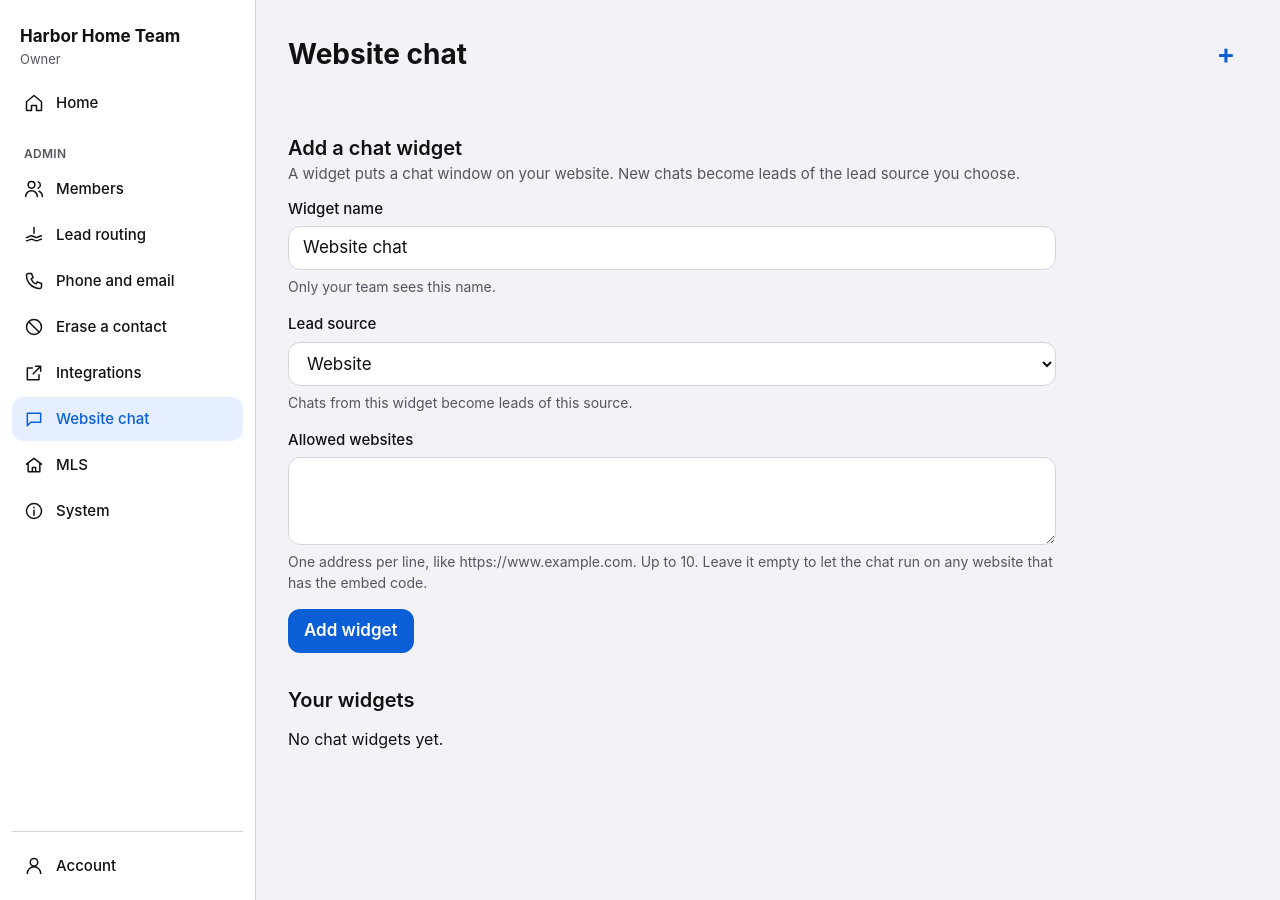
Test: Website chat page › the key is never shown again: not after "Done", and not on the widget list
The image size is (1280, 900).
Expected: the text "No chat widgets yet." is shown, [288,729,443,749]
Click the button "Add widget". click: (351, 631)
box: [288,609,414,653]
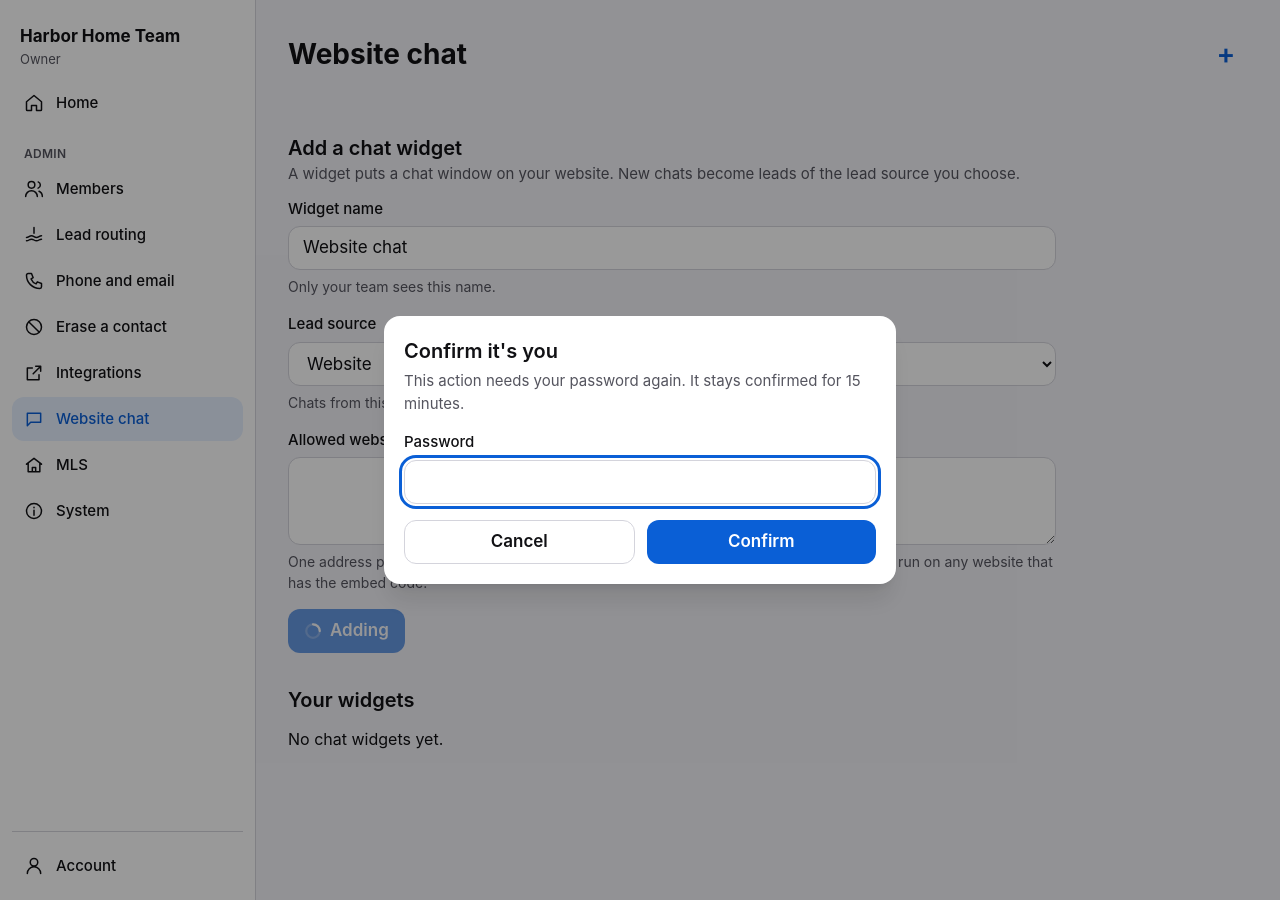
Type "correct horse battery" into the password field labelled "Password". click: (640, 482)
box: [404,460,876,504]
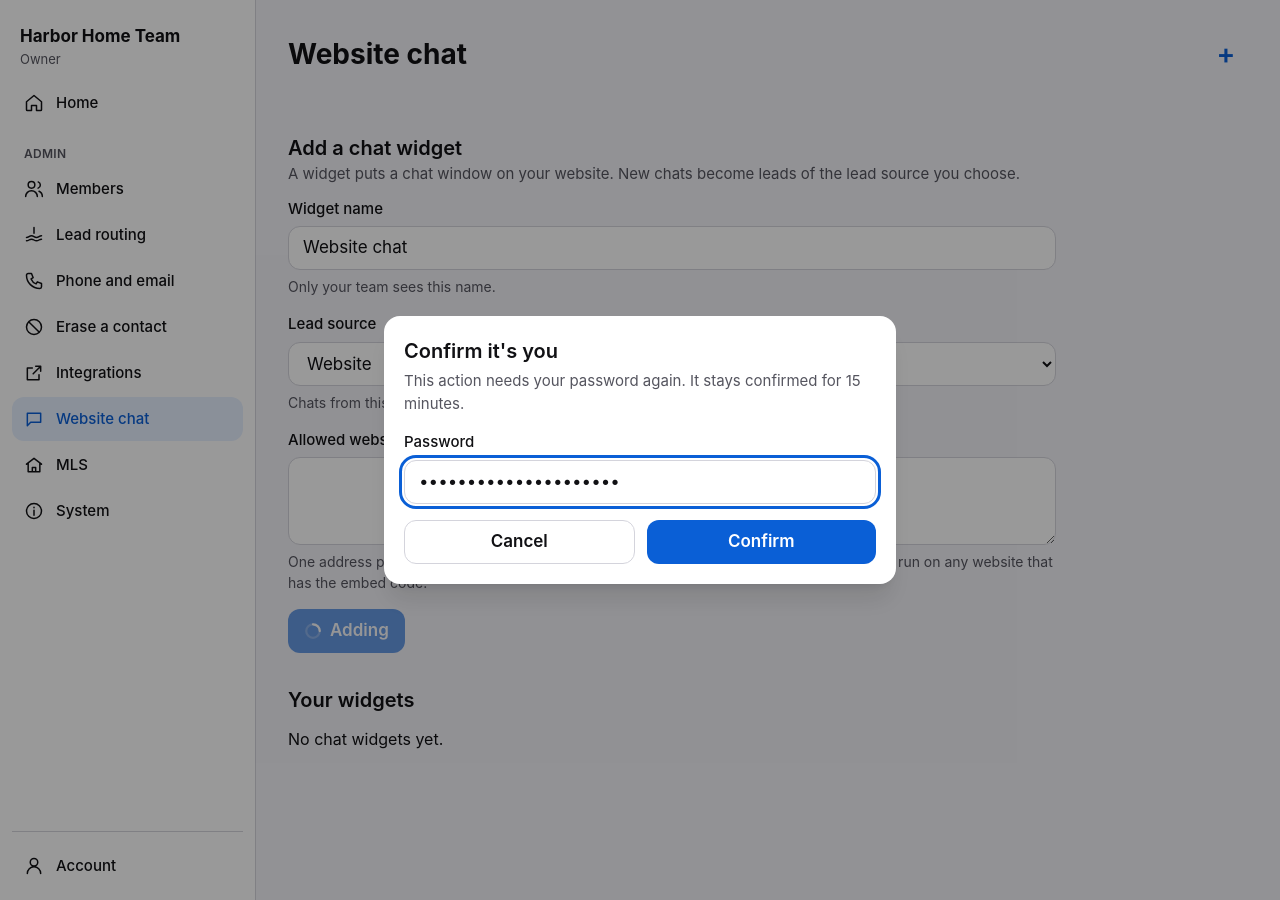
Click the button "Confirm". click: (761, 542)
box: [646,520,876,564]
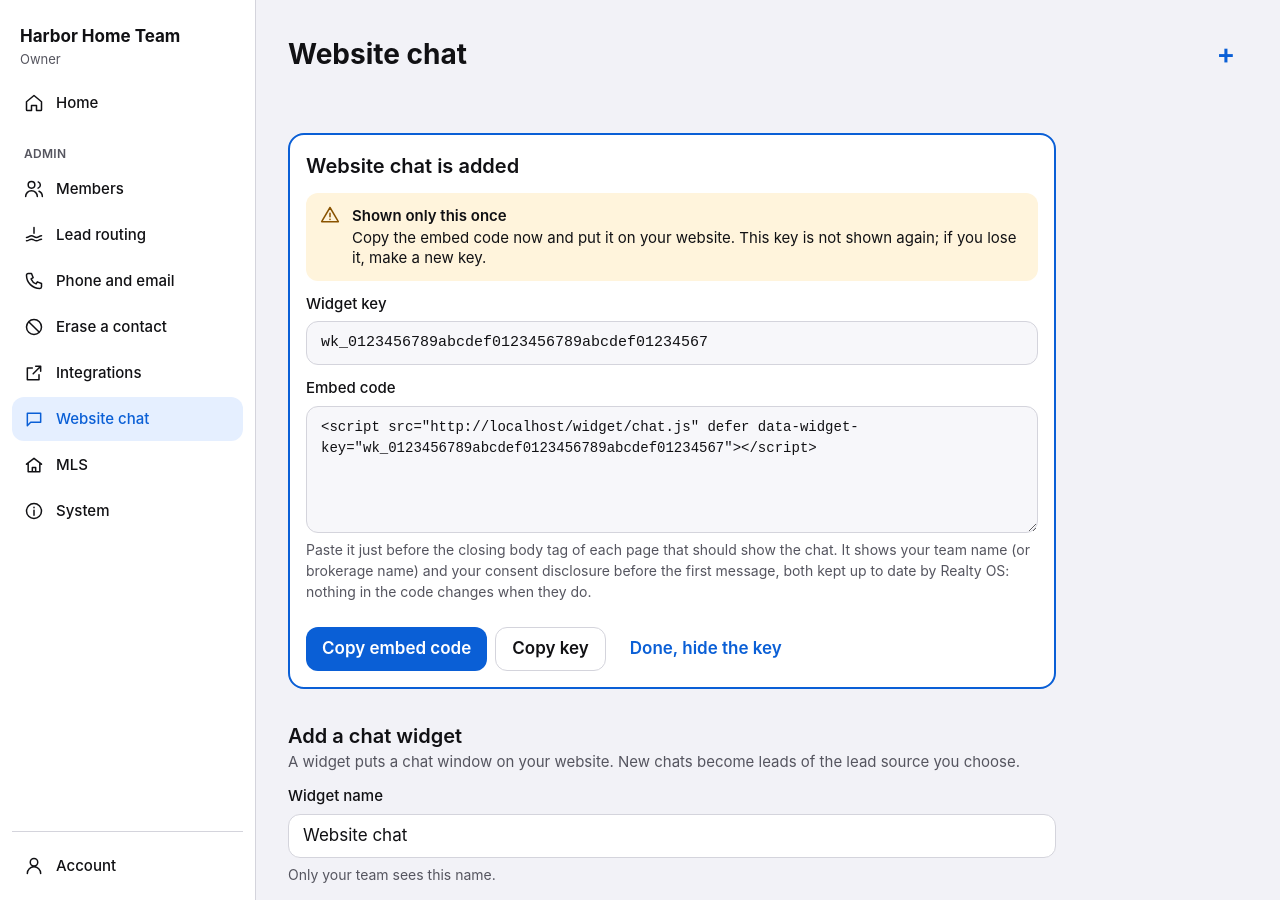
Now the field labelled "Widget key" is shown, box [306,321,1038,365]
Click the button "Done, hide the key". click: (706, 649)
box: [614,627,798,671]
(page scrolled)
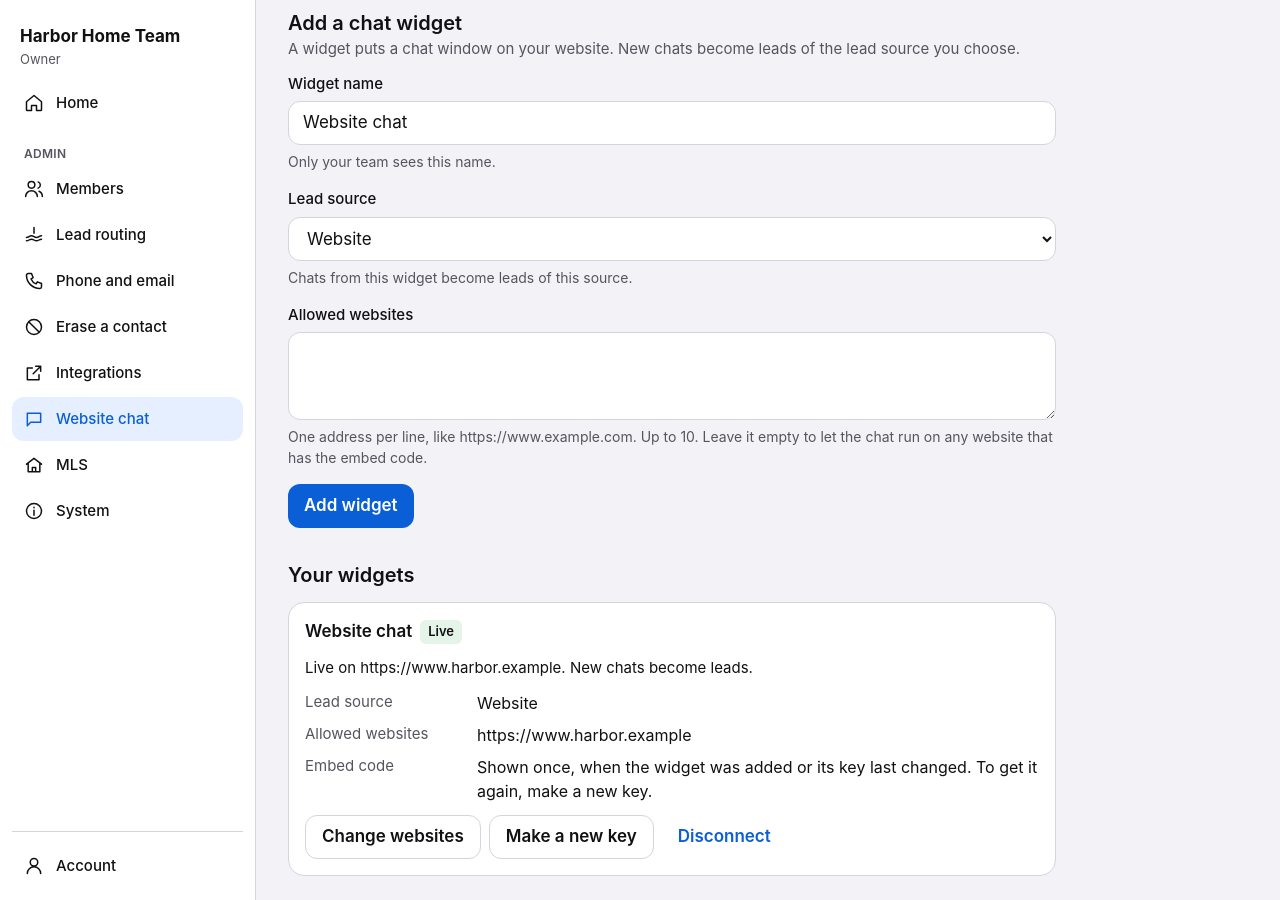
Expected: the text "wk_0123456789abcdef0123456789abcdef01234567" is not shown
Now the text "Shown once, when the widget was added or its key last changed. To get it again, make a new key." is shown, box [477,757,1037,801]
Now the label labelled "Widget key" is gone
